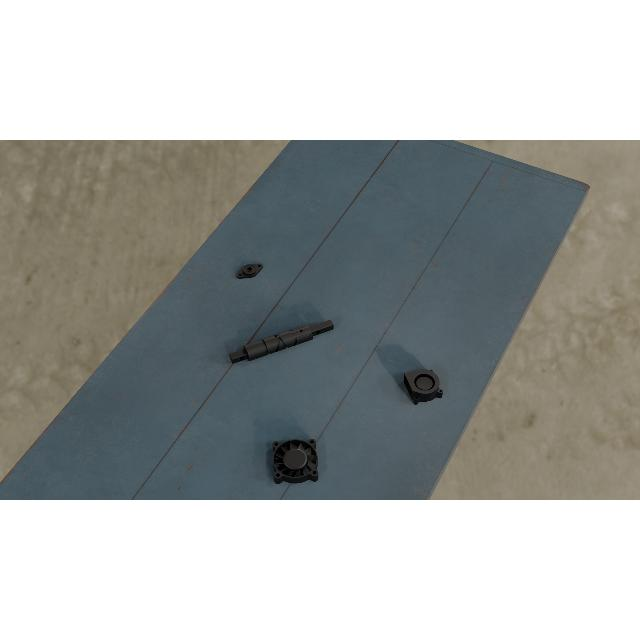Pieza1: (227, 314, 335, 370)
Pieza2: (234, 258, 266, 282)
Pieza3: (403, 366, 445, 406)
Pieza4: (272, 438, 320, 486)
